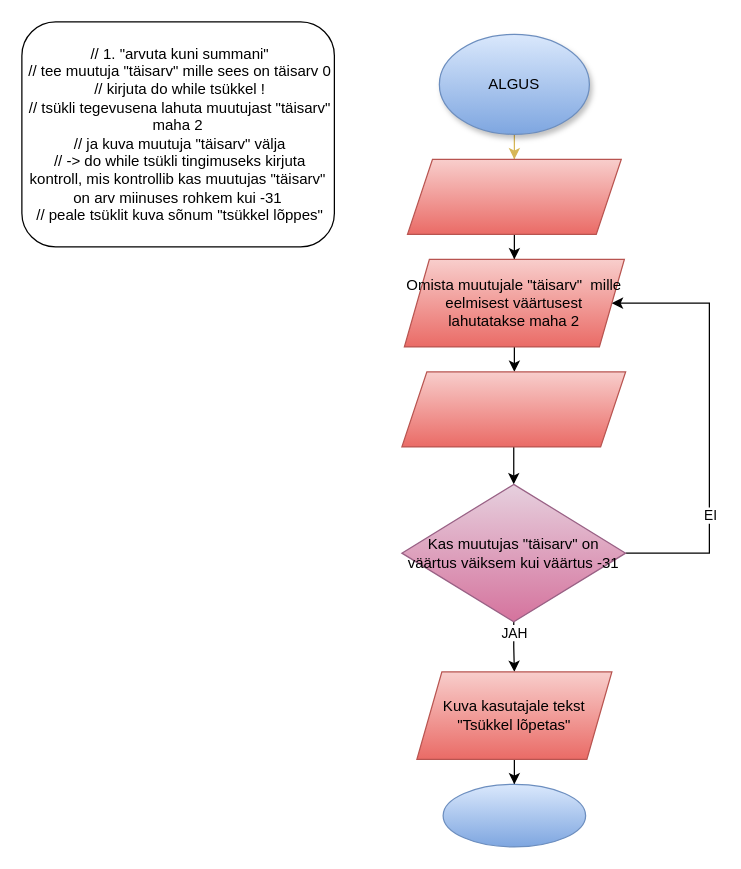
Some shapes in this 741 by 869 pixel diagram are drawn without their labels. The shapes that lost their labels are listed below. From the top down, each one's centre as x and y in pixels, then its label:
point (513, 196): Tekitame täiarvulise muutuja "täisArv" mille algseks väärtuseks omistame 0
point (513, 409): Kuva kasutajale muutujas "täisarv" olev väärtus
point (514, 815): LÕPP
